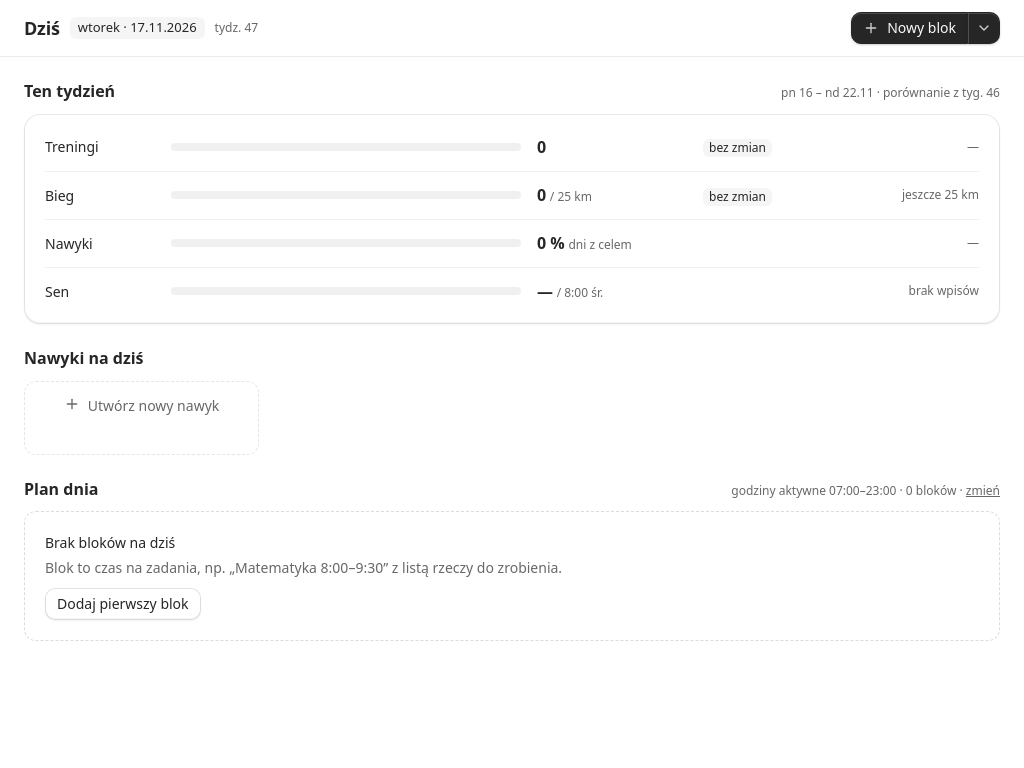
Test: TodayView › menu dodawania otwiera „Szybko dodaj”, skrót Ctrl+Shift+K też
Click the button named "Więcej sposobów dodawania". click: [984, 28]
box: [968,12,1000,44]
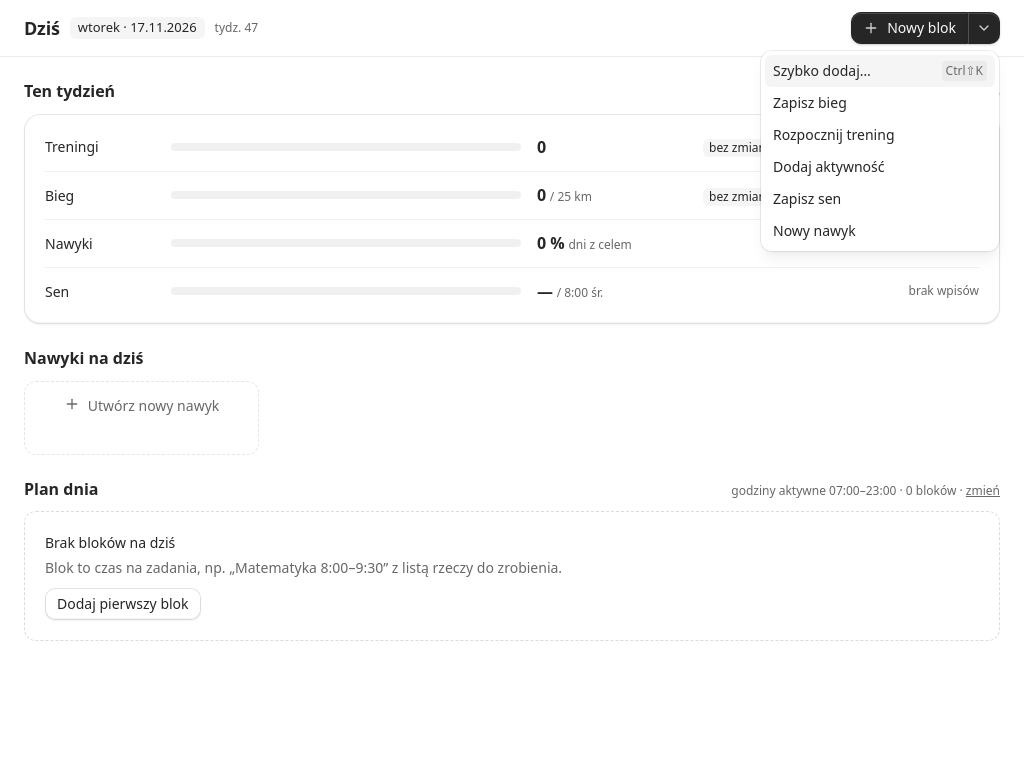
Click the button "Szybko dodaj… Ctrl⇧K". click: [880, 71]
box: [765,55,995,87]
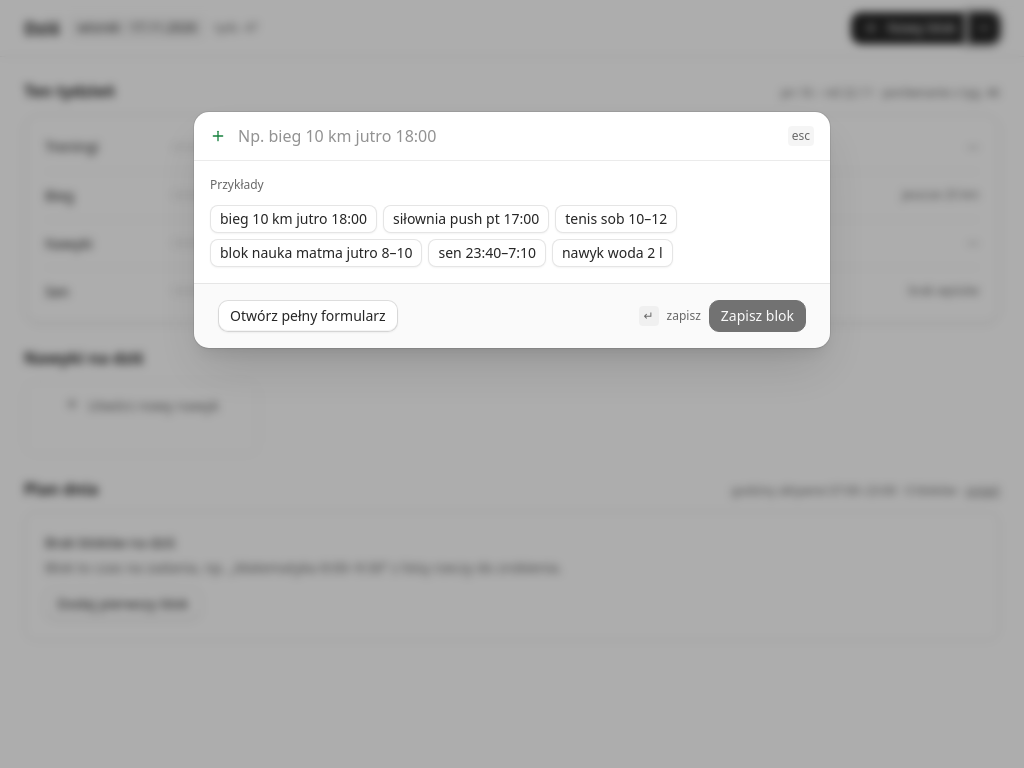
Now the dialog named "Szybkie dodawanie" is shown, box [193,111,831,349]
Press Escape
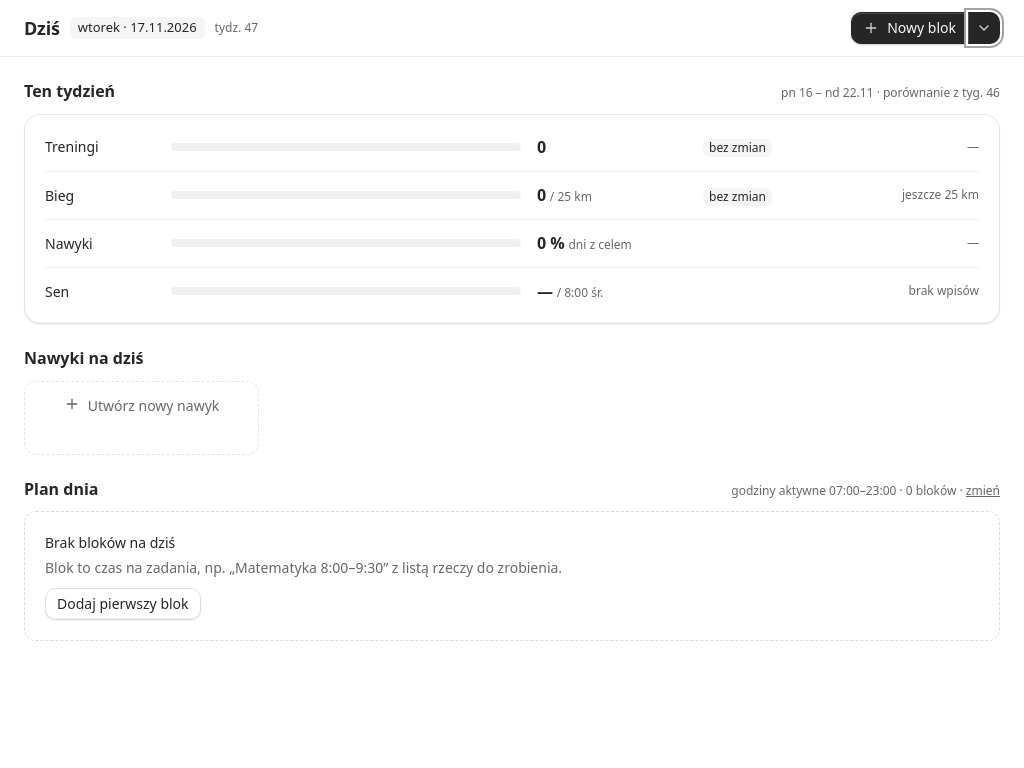
Expected: the dialog "Szybkie dodawanie" is not shown
Type keys "{Control>}{Shift>}K{/Shift}{/Control}"
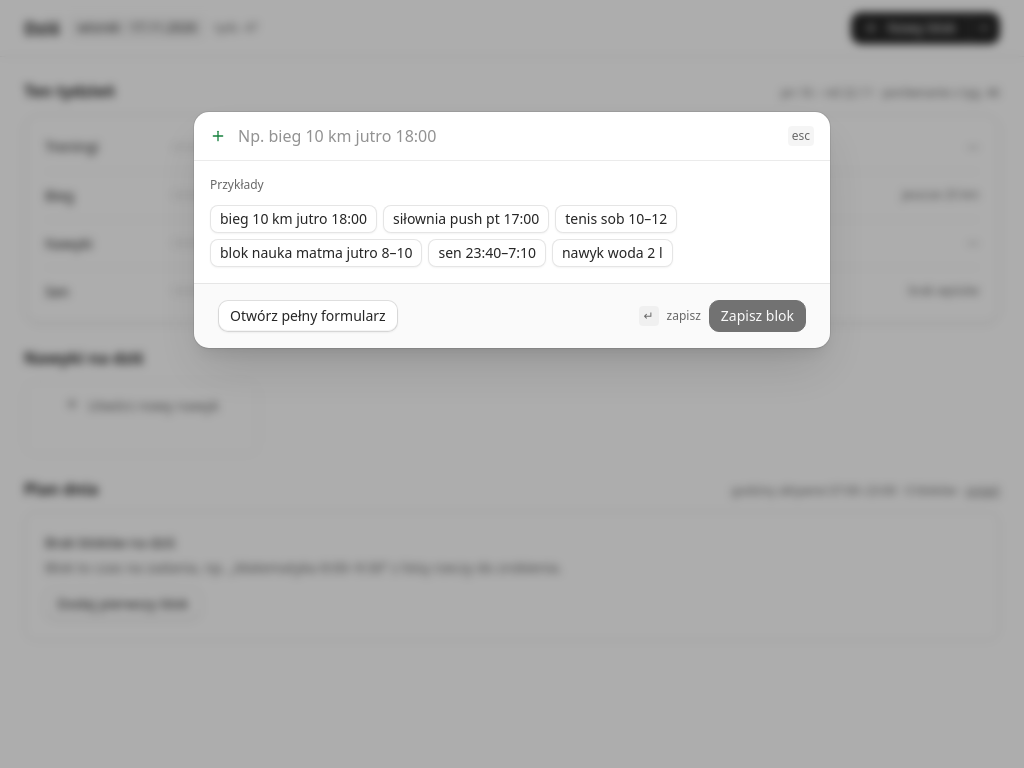
Now the dialog named "Szybkie dodawanie" is shown, box [193,111,831,349]
